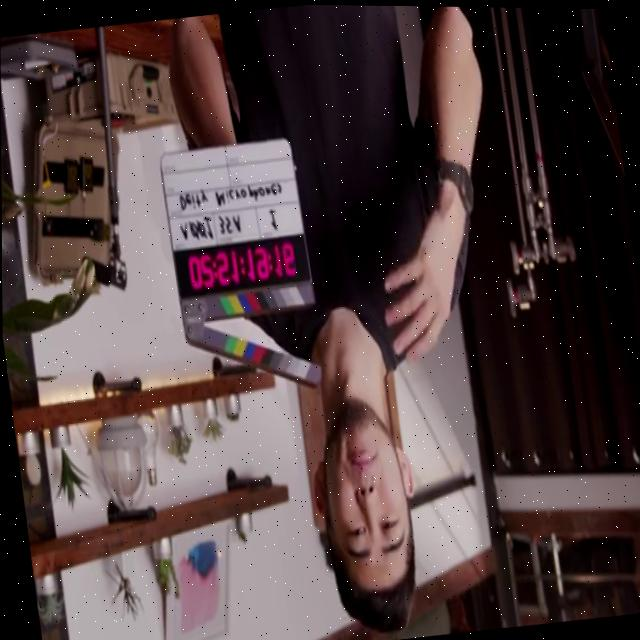Clapperboard: (159, 135, 320, 386)
